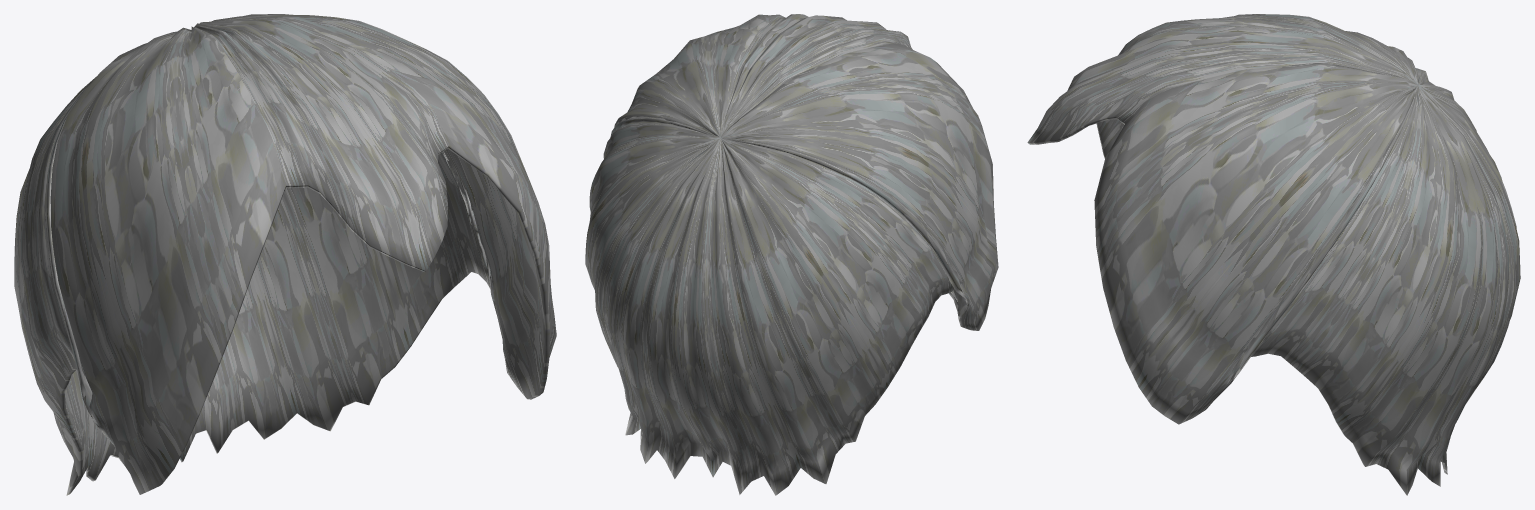
The model's file is hair.receding.hair-1.gltf.
3 views of the same model, side by side, from view 1: azimuth 30°, elevation 25°; view 2: azimuth 150°, elevation 25°; view 3: azimuth 270°, elevation 25° (orthographic). The views are drawn at different scales.
Visible parts, largest first — view 1: hair.receding; view 2: hair.receding; view 3: hair.receding.
Boxes of the visible parts, x1,y1,x2,y2 form: hair.receding: (14,14,556,495); hair.receding: (585,14,998,495); hair.receding: (1027,14,1520,495).
Size of the model in its own units: 0.1634 by 0.1804 by 0.1937.
1 material, 1 textured.
